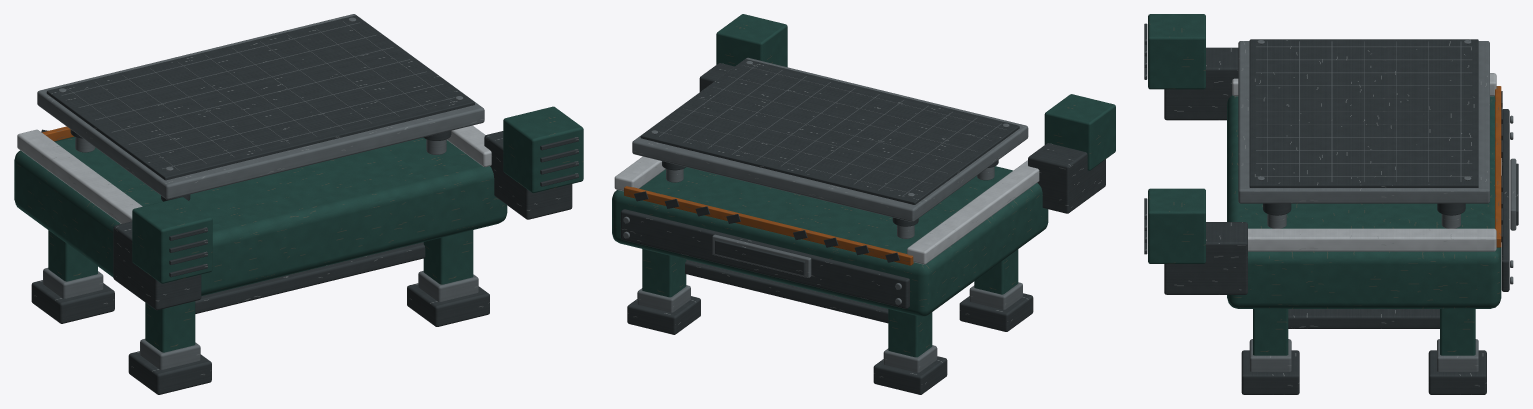
Rendered from fabricator_base.glb.
3 views of the same model, side by side, from view 1: azimuth 30°, elevation 25°; view 2: azimuth 150°, elevation 25°; view 3: azimuth 270°, elevation 25° (orthographic). The views are drawn at different scales.
Visible parts, largest first — view 1: Graphite tooling bed, Chamfered machine plinth, Print bed underplate, Mast motor housing, Mast motor housing.001, Lower equipment shelf, Deck edge guard, Rear mast foundation, Rear mast foundation.001, Box section leg.003, Box section leg.001, Rubber isolator (+7 smaller); view 2: Graphite tooling bed, Chamfered machine plinth, Print bed underplate, Front replaceable fascia, Mast motor housing, Deck edge guard, Rear mast foundation, Lower equipment shelf, Mast motor housing.001, Safety stripe, Box section leg, Box section leg.002 (+11 smaller); view 3: Graphite tooling bed, Chamfered machine plinth, Print bed underplate, Deck edge guard.001, Mast motor housing, Mast motor housing.001, Rear mast foundation.001, Rear mast foundation, Lower equipment shelf, Rubber isolator.003, Rubber isolator.002, Box section leg.003 (+11 smaller).
Part boxes in pixels (box(x1,y1,x2,y2)): Graphite tooling bed: box(46, 15, 474, 180); Chamfered machine plinth: box(14, 136, 507, 296); Print bed underplate: box(37, 14, 484, 199); Mast motor housing: box(132, 197, 212, 283); Mast motor housing.001: box(503, 106, 583, 193); Lower equipment shelf: box(195, 242, 425, 313); Deck edge guard: box(17, 129, 142, 223); Rear mast foundation: box(113, 221, 201, 310); Rear mast foundation.001: box(484, 131, 572, 219); Box section leg.003: box(423, 230, 473, 284); Box section leg.001: box(145, 301, 195, 352); Rubber isolator: box(31, 280, 114, 323); Graphite tooling bed: box(640, 59, 1019, 204); Chamfered machine plinth: box(612, 166, 1048, 316); Print bed underplate: box(632, 57, 1028, 221); Front replaceable fascia: box(620, 209, 909, 308); Mast motor housing: box(1044, 94, 1115, 170); Deck edge guard: box(907, 160, 1039, 264); Rear mast foundation: box(1028, 143, 1105, 213); Lower equipment shelf: box(685, 259, 888, 323); Mast motor housing.001: box(716, 14, 787, 67); Safety stripe: box(624, 186, 913, 265); Box section leg: box(888, 309, 932, 357); Box section leg.002: box(642, 249, 686, 297); Graphite tooling bed: box(1249, 39, 1478, 187); Chamfered machine plinth: box(1227, 95, 1501, 308); Print bed underplate: box(1238, 41, 1489, 203); Deck edge guard.001: box(1248, 228, 1496, 251); Mast motor housing: box(1148, 14, 1205, 89); Mast motor housing.001: box(1148, 188, 1205, 263); Rear mast foundation.001: box(1164, 222, 1247, 294); Rear mast foundation: box(1164, 47, 1238, 120); Lower equipment shelf: box(1288, 309, 1439, 328); Rubber isolator.003: box(1241, 350, 1299, 394); Rubber isolator.002: box(1428, 350, 1486, 394); Box section leg.003: box(1253, 309, 1288, 355).
Size of the model in its own units: 1.46 by 0.711 by 1.16.
5 materials, 5 textured.
